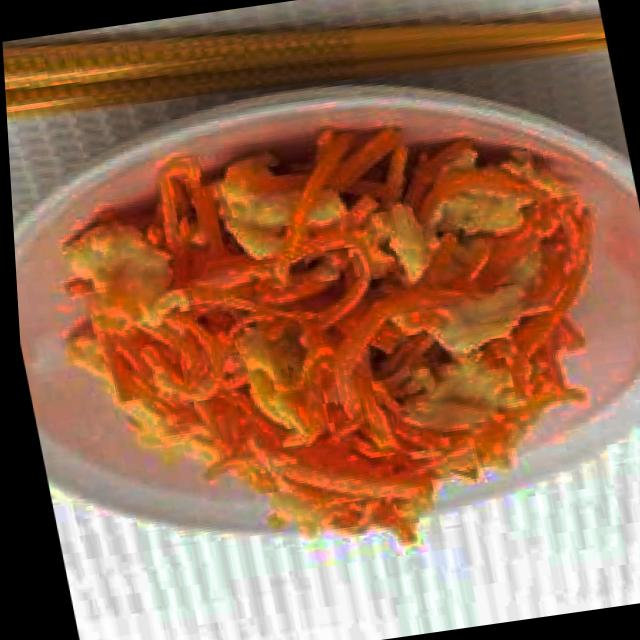carrot_eggs: (6, 99, 640, 598)
